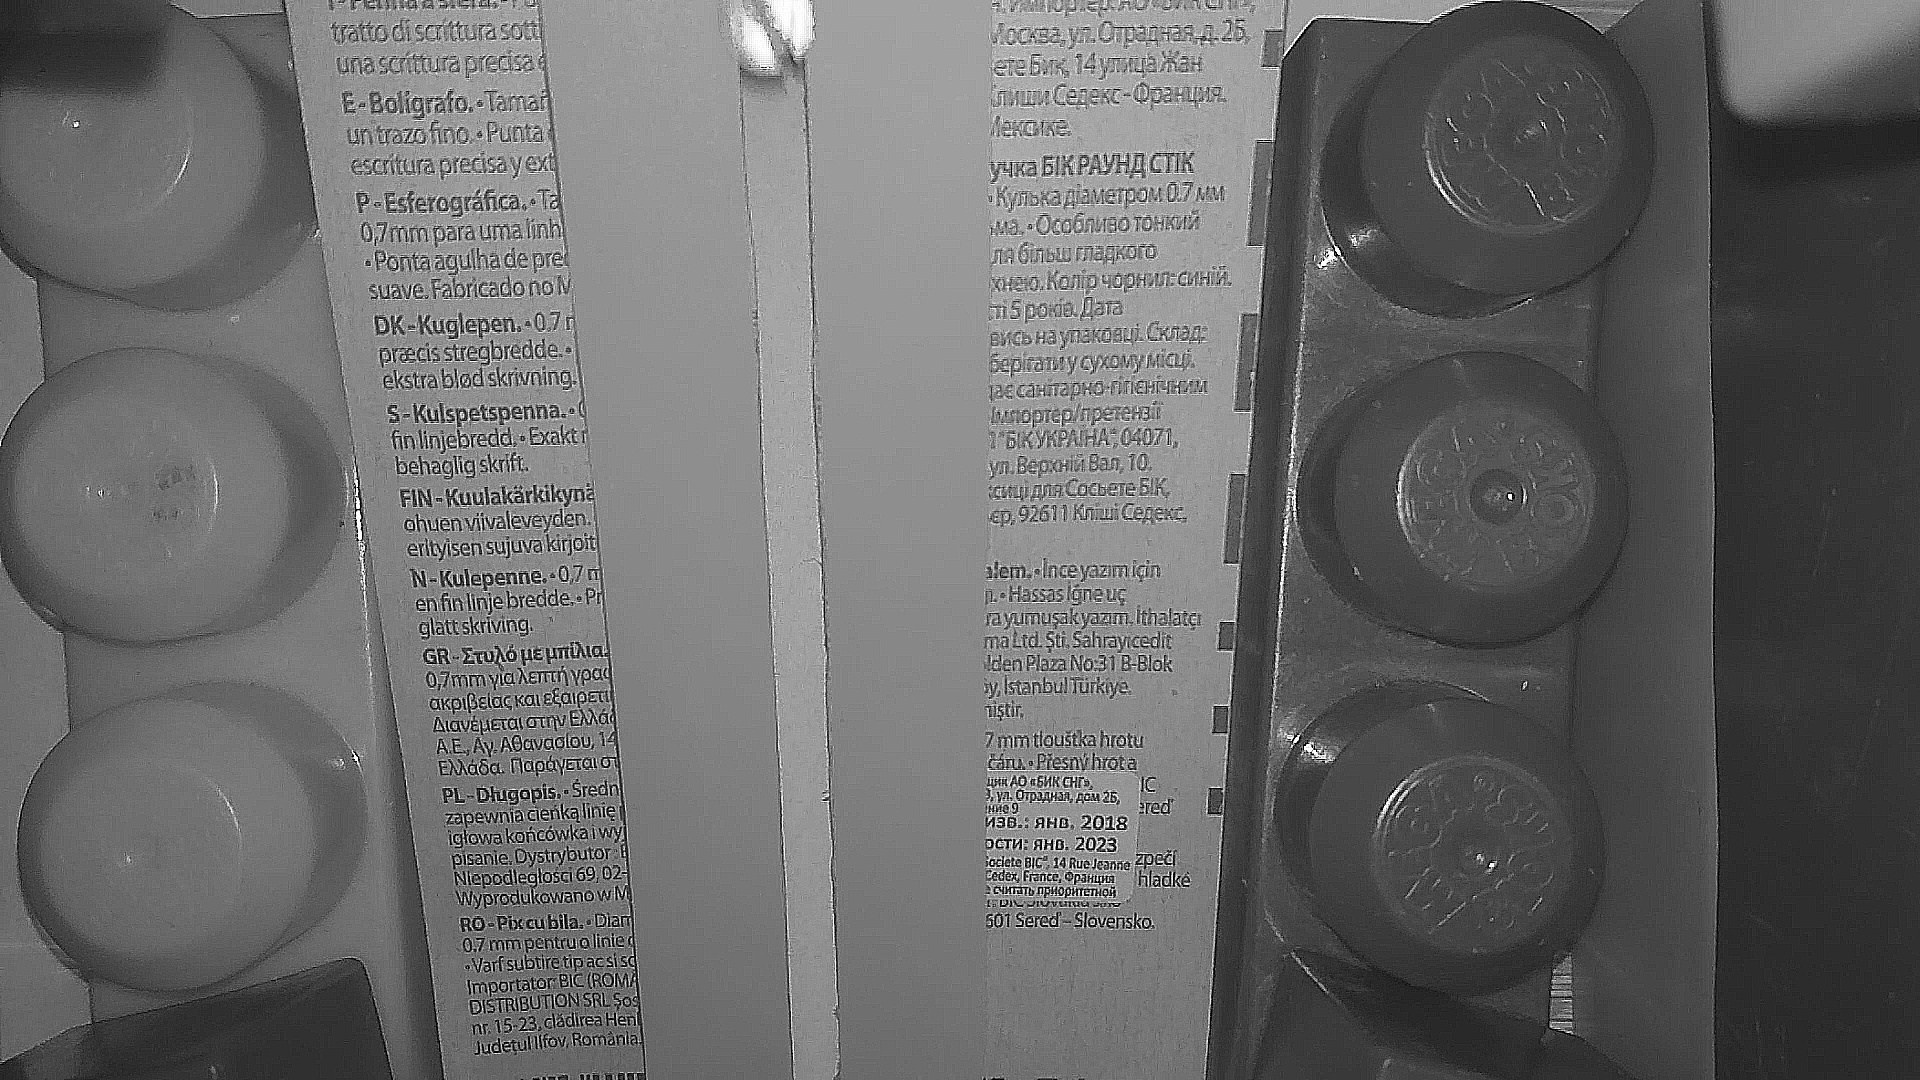i: (721, 1, 816, 76)
